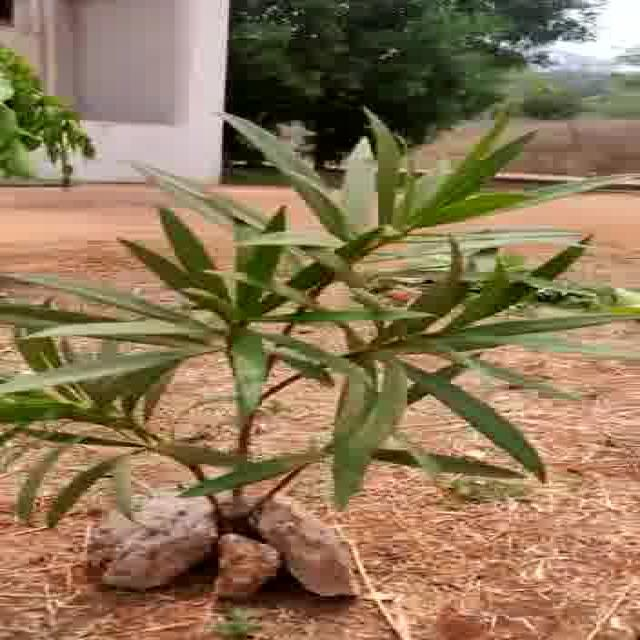Oleander: (32, 96, 595, 522)
